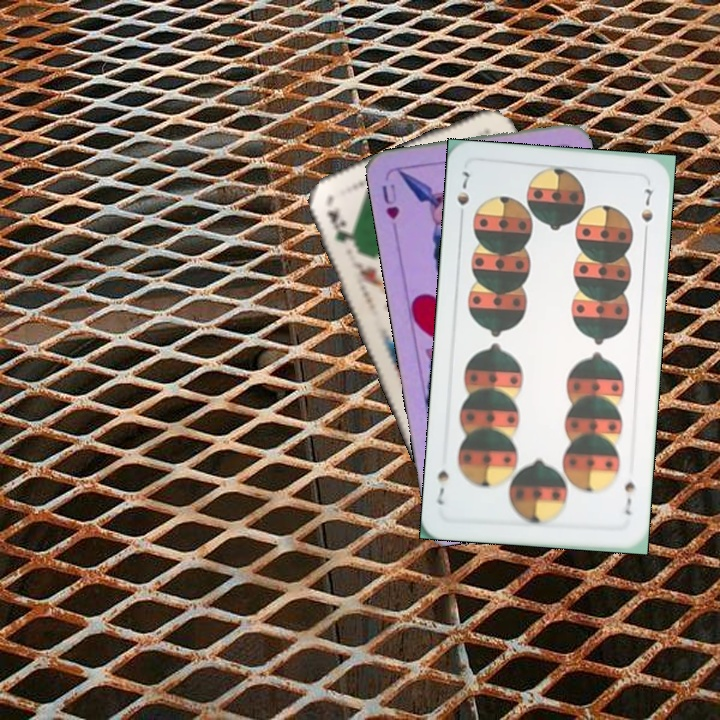GK: (323, 206, 360, 252)
HU: (378, 180, 402, 223)
S7: (453, 167, 472, 224), (620, 477, 638, 518)
